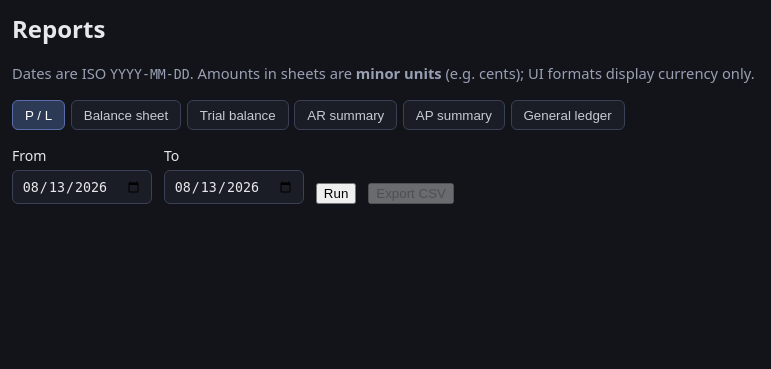
Test: ReportsPage › loads profit and loss report
Click the button "Run": (336, 194) [316,183,356,204]
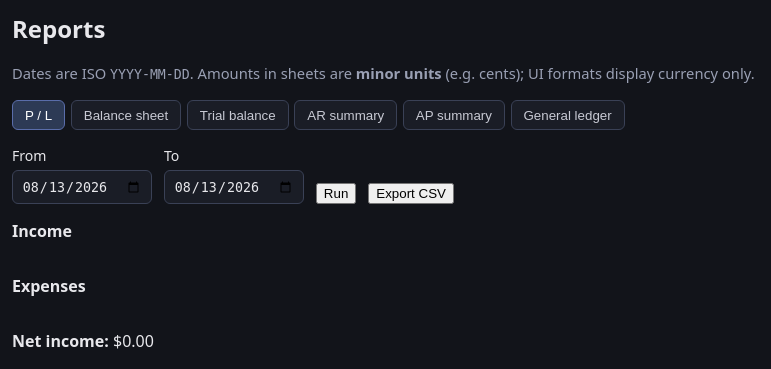
Expected: the text "Net income:" is shown, [12,330,109,352]
